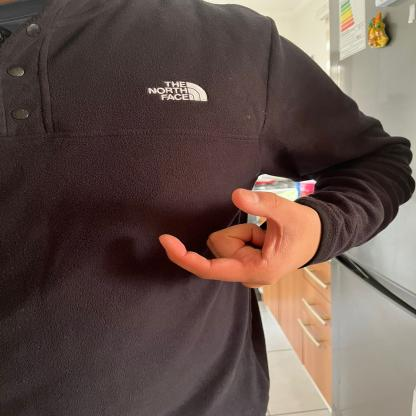G: (156, 181, 324, 290)
